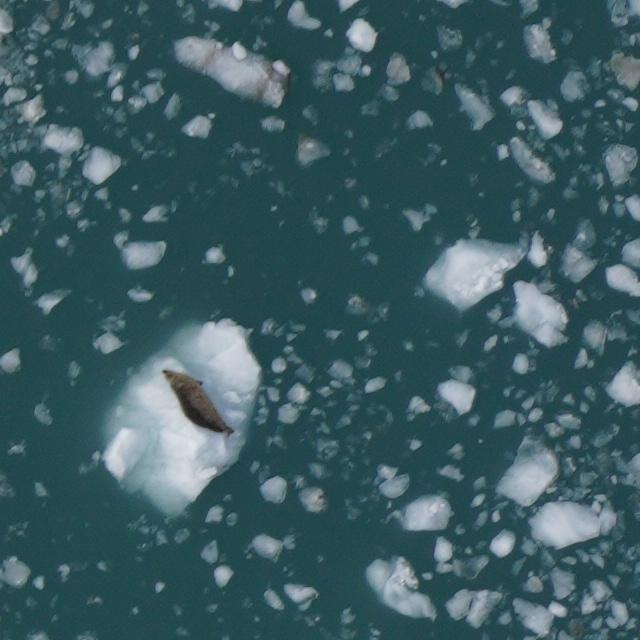seal: (155, 353, 237, 452)
